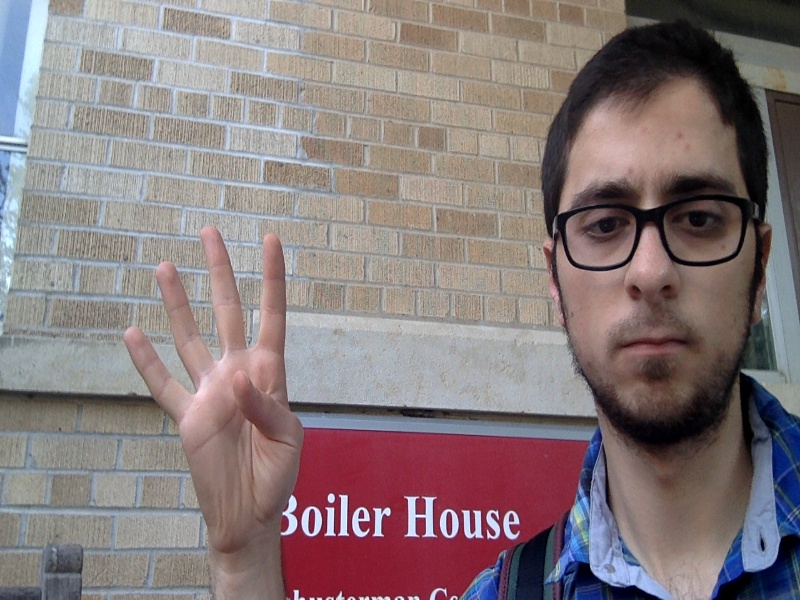4-hand: (123, 226, 301, 563)
